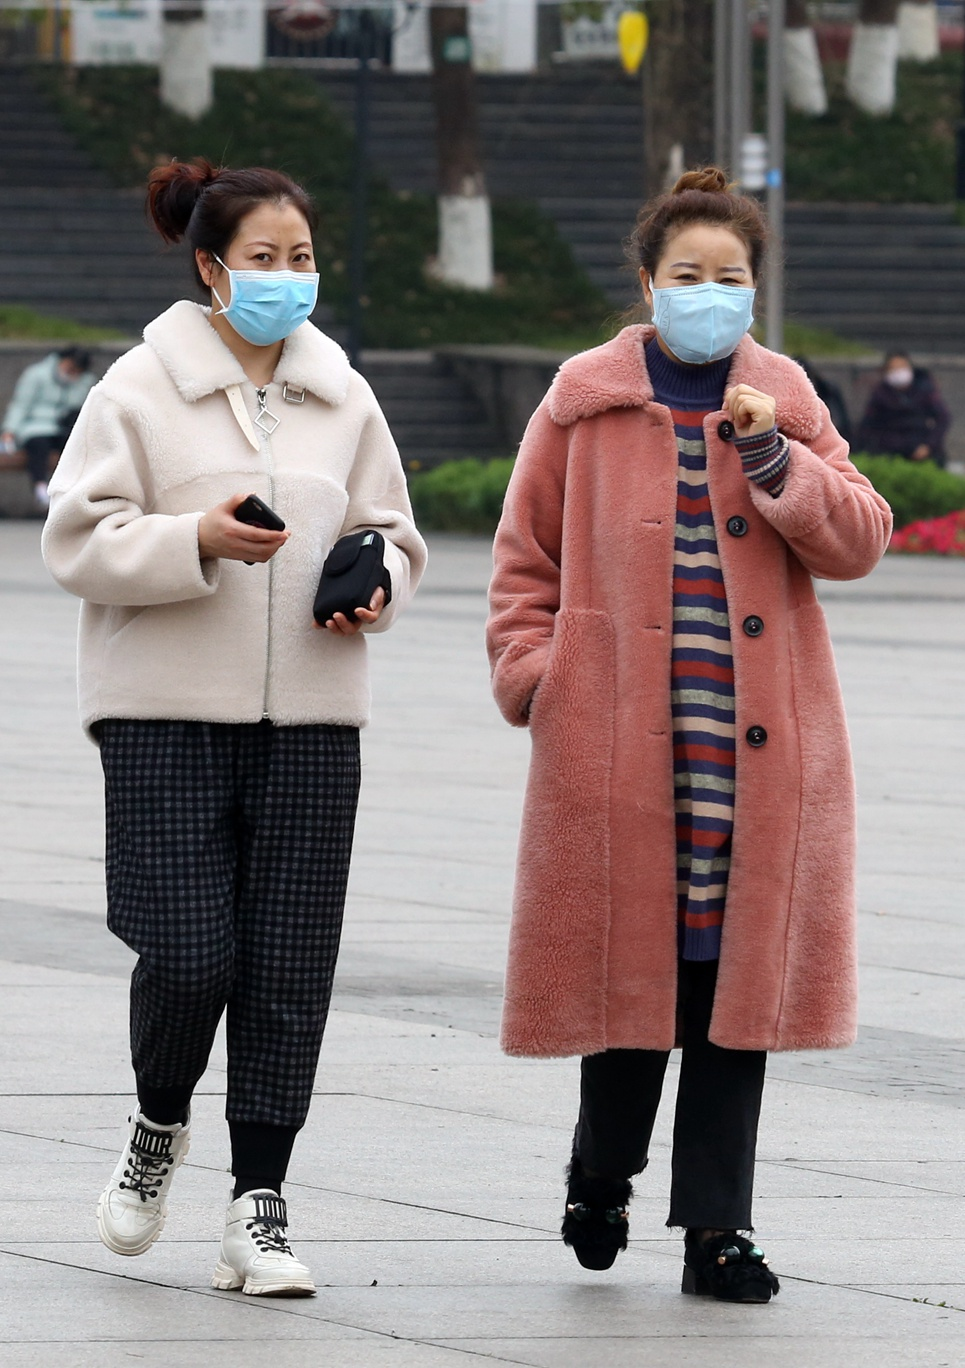mask: (648, 223, 761, 368), (229, 206, 320, 343)
